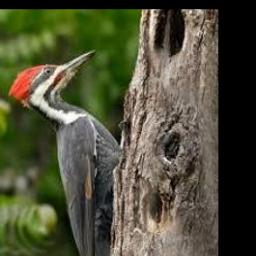Woodpecker: (9, 49, 123, 256)
